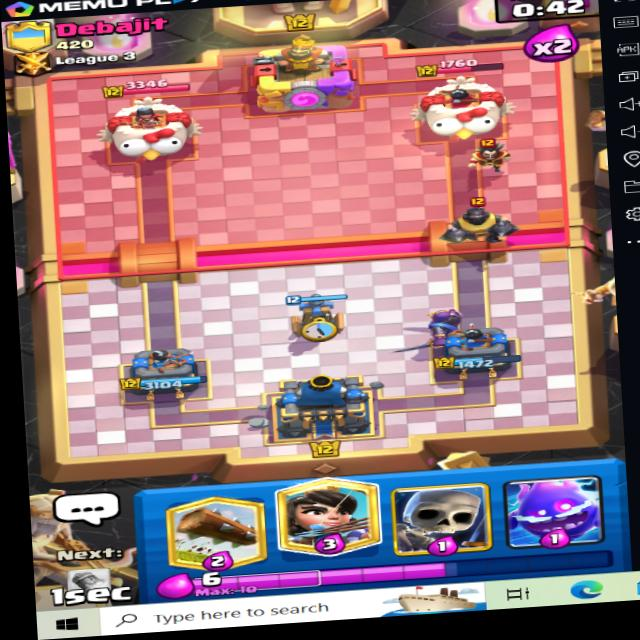electro-wizard: (464, 137, 520, 181)
mega-knight: (436, 194, 519, 249)
